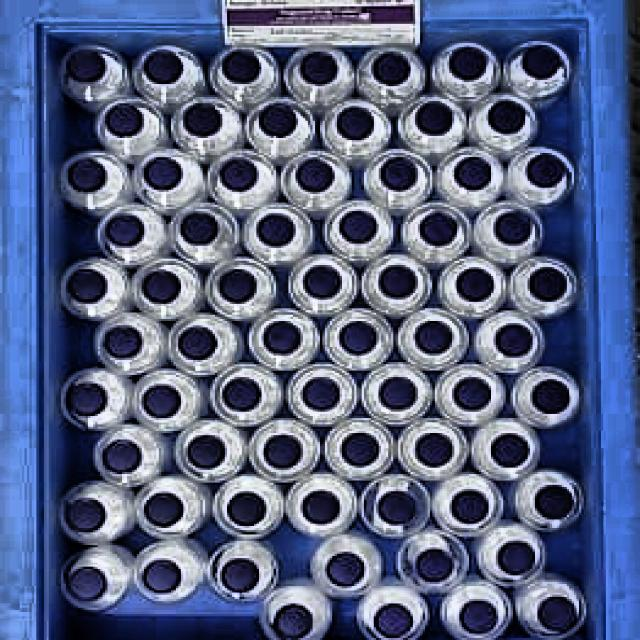vial: (521, 151, 570, 190), (293, 156, 336, 195), (261, 432, 305, 470), (531, 484, 576, 521), (492, 209, 534, 248), (100, 436, 143, 474), (323, 550, 367, 587), (452, 266, 496, 303), (65, 268, 109, 305), (64, 47, 108, 84), (377, 262, 418, 301), (488, 431, 530, 469), (221, 375, 263, 413), (526, 266, 569, 303), (62, 497, 106, 533), (220, 49, 264, 85), (185, 435, 230, 470), (302, 487, 342, 526), (370, 50, 411, 88), (449, 43, 490, 81), (273, 603, 315, 640), (378, 375, 420, 412), (66, 157, 108, 194), (258, 102, 300, 139), (337, 209, 380, 245), (458, 598, 498, 636), (496, 539, 536, 577), (418, 209, 458, 247), (141, 558, 182, 595), (530, 378, 571, 415), (177, 324, 218, 361), (412, 320, 453, 357), (452, 155, 493, 192), (104, 102, 145, 139), (143, 491, 185, 527), (140, 384, 182, 420), (218, 157, 260, 193), (414, 100, 456, 136), (372, 603, 415, 638), (339, 431, 382, 466), (141, 156, 184, 191), (415, 547, 455, 584), (414, 431, 454, 468), (338, 319, 378, 356), (143, 48, 183, 85), (537, 595, 578, 631), (227, 490, 268, 526), (67, 565, 108, 601), (493, 323, 534, 359), (178, 210, 219, 246), (182, 102, 223, 138), (521, 43, 562, 79), (449, 489, 491, 524), (140, 269, 182, 304), (261, 321, 304, 355), (222, 556, 261, 593), (218, 268, 257, 305), (303, 264, 343, 300), (336, 105, 376, 141), (378, 490, 419, 525), (300, 377, 341, 412), (256, 213, 297, 248), (104, 213, 145, 248), (299, 51, 340, 86), (453, 376, 493, 411), (104, 325, 144, 360), (380, 157, 420, 192), (66, 383, 107, 417), (487, 100, 527, 134)
